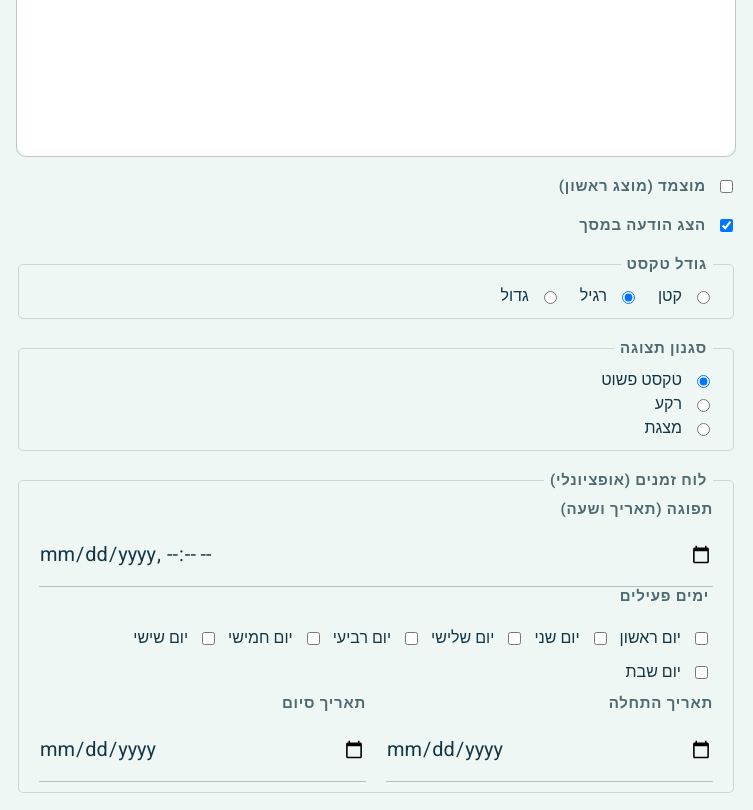
Test: Style picker › shows curated palette when background style is selected
(page scrolled)
Click the radio button labelled "רקע". click: [704, 405]
box: [697,399,710,412]
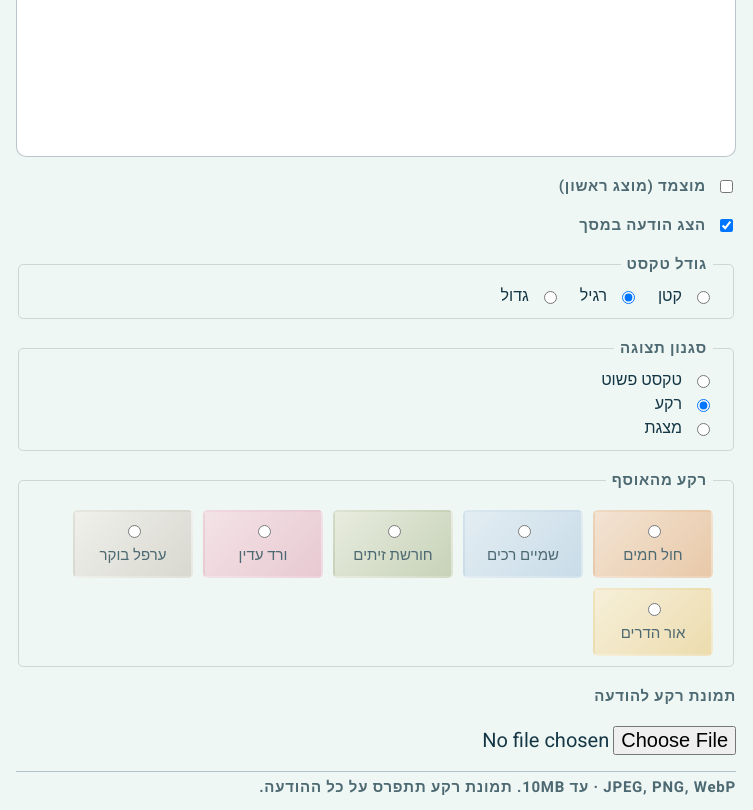
expect the text "חול חמים" is shown: met, box [623,544,683,566]
expect the text "שמיים רכים" is shown: met, box [487,544,559,566]
